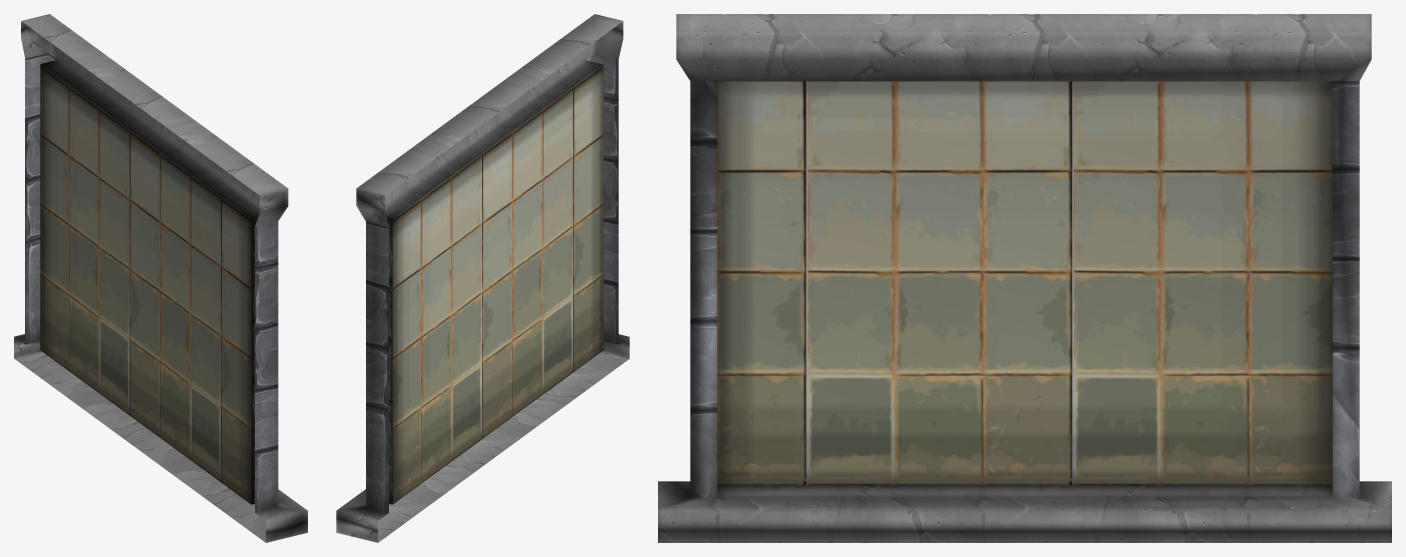
Rendered from window2.fbx.
The picture shows the model from 3 angles, left to right: view 1: azimuth 30°, elevation 25°; view 2: azimuth 150°, elevation 25°; view 3: azimuth 270°, elevation 25°; orthographic projection. The views are drawn at different scales.
Parts seen in each view (by area): view 1: Cube_036; view 2: Cube_036; view 3: Cube_036.
Boxes of the visible parts, x1=… form: Cube_036: x1=14, y1=14, x2=307, y2=542; Cube_036: x1=336, y1=14, x2=629, y2=542; Cube_036: x1=658, y1=14, x2=1391, y2=542.
Bounding box in the file's own units: 0.4373 × 3.42 × 4.55.
